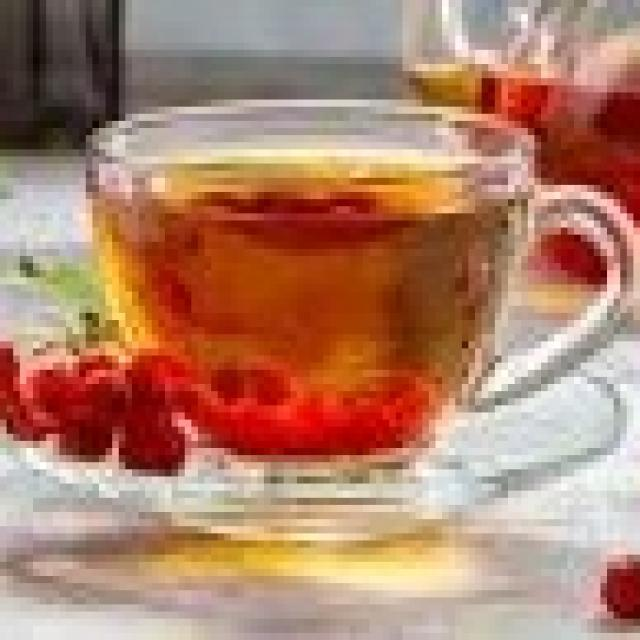taza: (83, 89, 637, 492)
